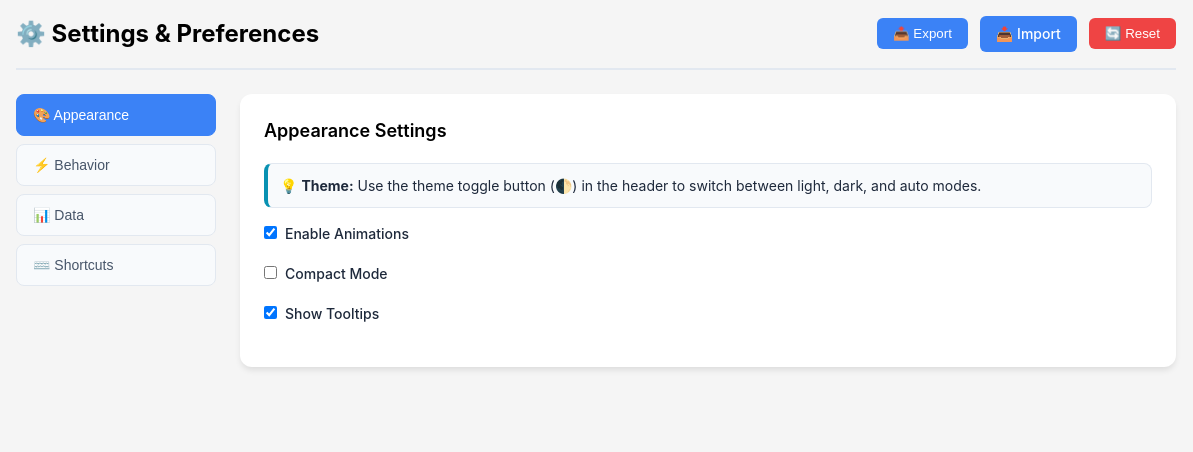
Test: SettingsPanel Component › Navigation › shows correct content for each section
Expected: the text "Enable Animations" is shown, [264,225,409,242]
// Switch to Behavior section
Click the button "⚡ Behavior" at (116, 165), box [16,144,216,186]
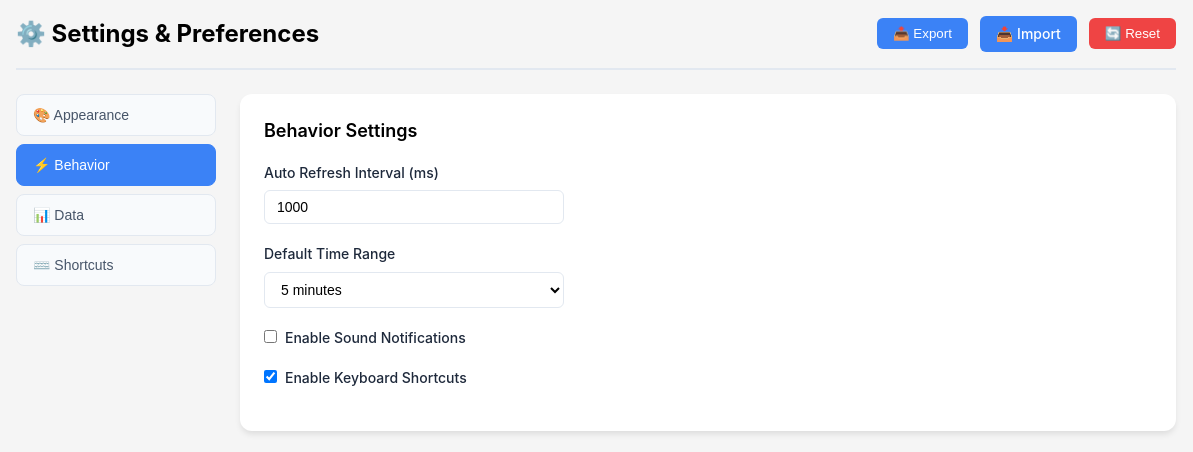
Result: the text "Auto Refresh Interval (ms)" is shown at [264,164,439,181]
